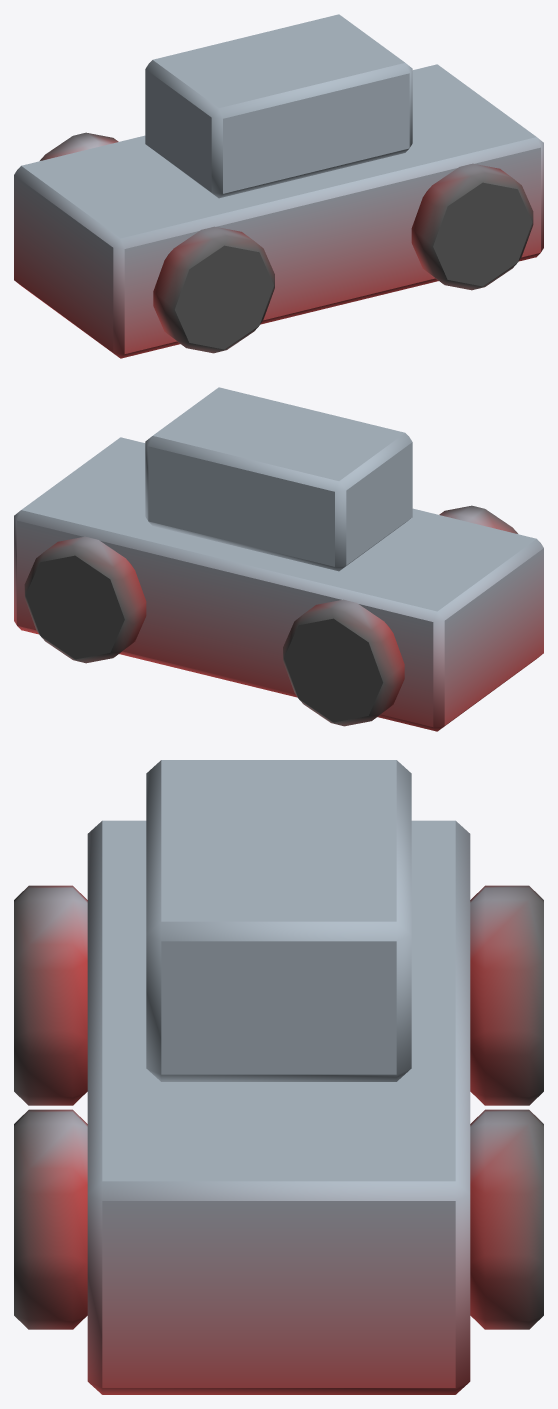
File: car.glb
3 views of the same model, one above another, from view 1: azimuth 30°, elevation 25°; view 2: azimuth 150°, elevation 25°; view 3: azimuth 270°, elevation 25° (orthographic). The views are drawn at different scales.
Parts seen in each view (by area): view 1: Car; view 2: Car; view 3: Car.
Boxes of the visible parts, x1=… form: Car: x1=14, y1=14, x2=543, y2=358; Car: x1=14, y1=387, x2=543, y2=731; Car: x1=14, y1=760, x2=543, y2=1394.
Bounding box in the file's own units: 0.3 × 0.14 × 0.18.
